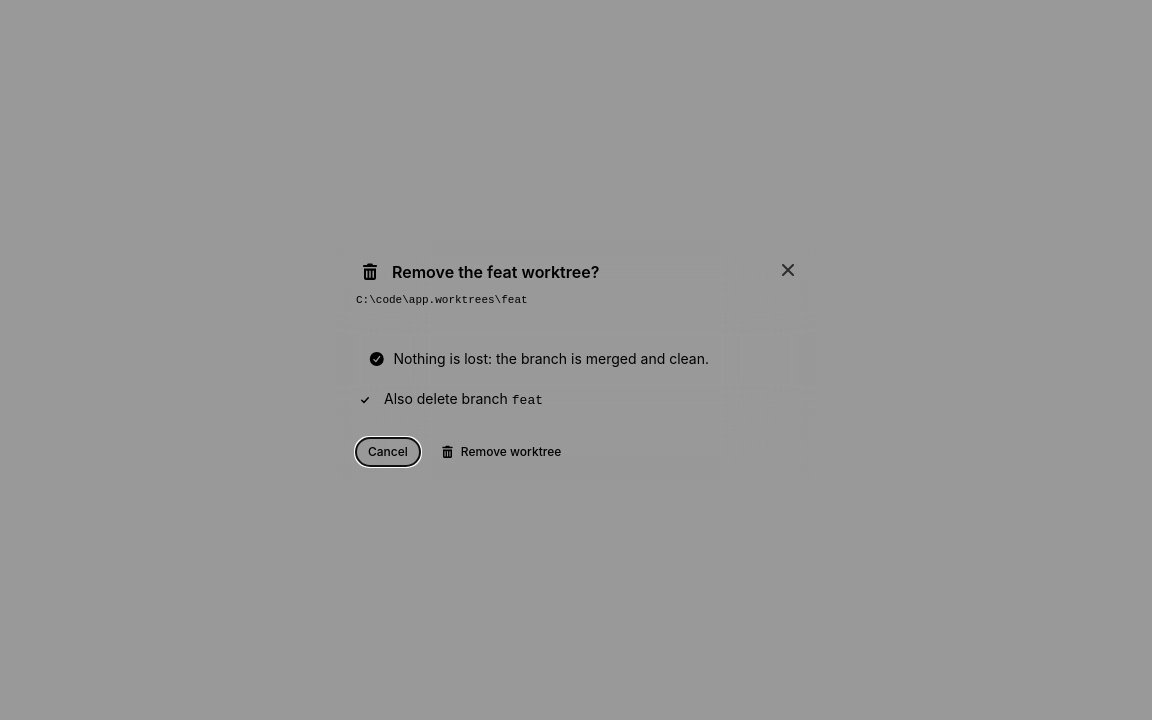
Test: RemoveWorktreeDialog › keeps the dialog open with the reason when git refuses
Click the button "Remove worktree" at (500, 452), box [428,438,573,466]
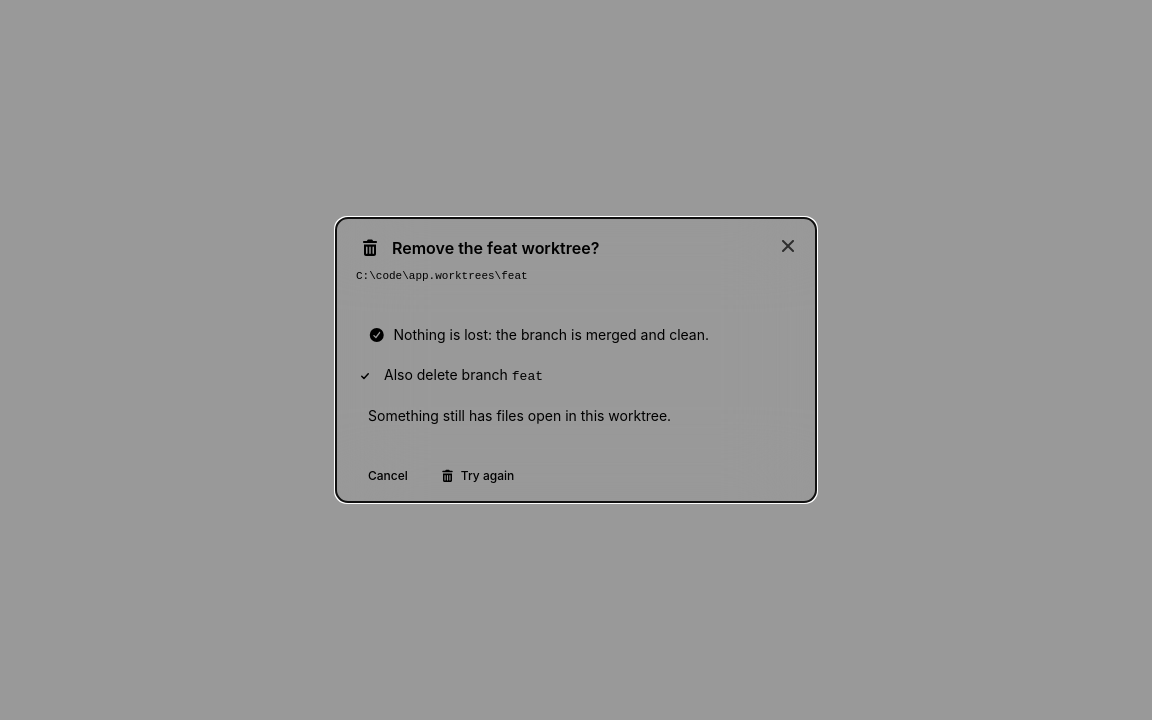
Expected: the text "Something still has files open in this worktree." is shown, [368,407,671,424]
Expected: the button "Try again" is shown, [428,462,526,490]
